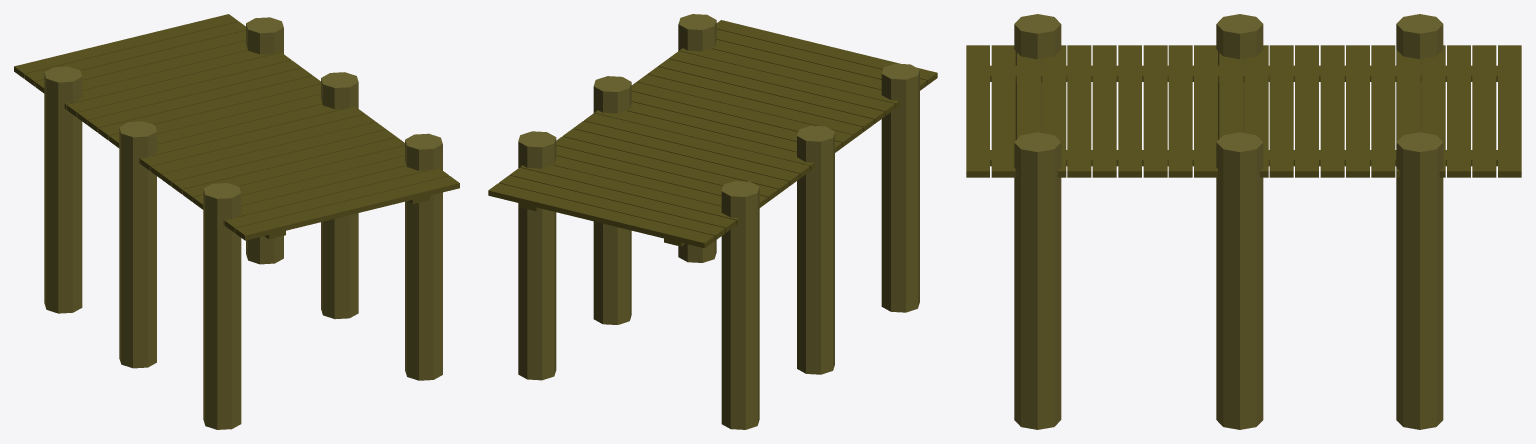
File: Dock.fbx
The picture shows the model from 3 angles, left to right: view 1: azimuth 30°, elevation 25°; view 2: azimuth 150°, elevation 25°; view 3: azimuth 270°, elevation 25°; orthographic projection. The views are drawn at different scales.
Visible parts, largest first — view 1: pCylinder8; view 2: pCylinder8; view 3: pCylinder8.
Boxes of the visible parts, bbox=[...] form: pCylinder8: bbox=[14, 14, 459, 429]; pCylinder8: bbox=[488, 14, 937, 429]; pCylinder8: bbox=[966, 14, 1521, 429].
Size of the model in its own units: 47.99 by 44.99 by 81.55.
